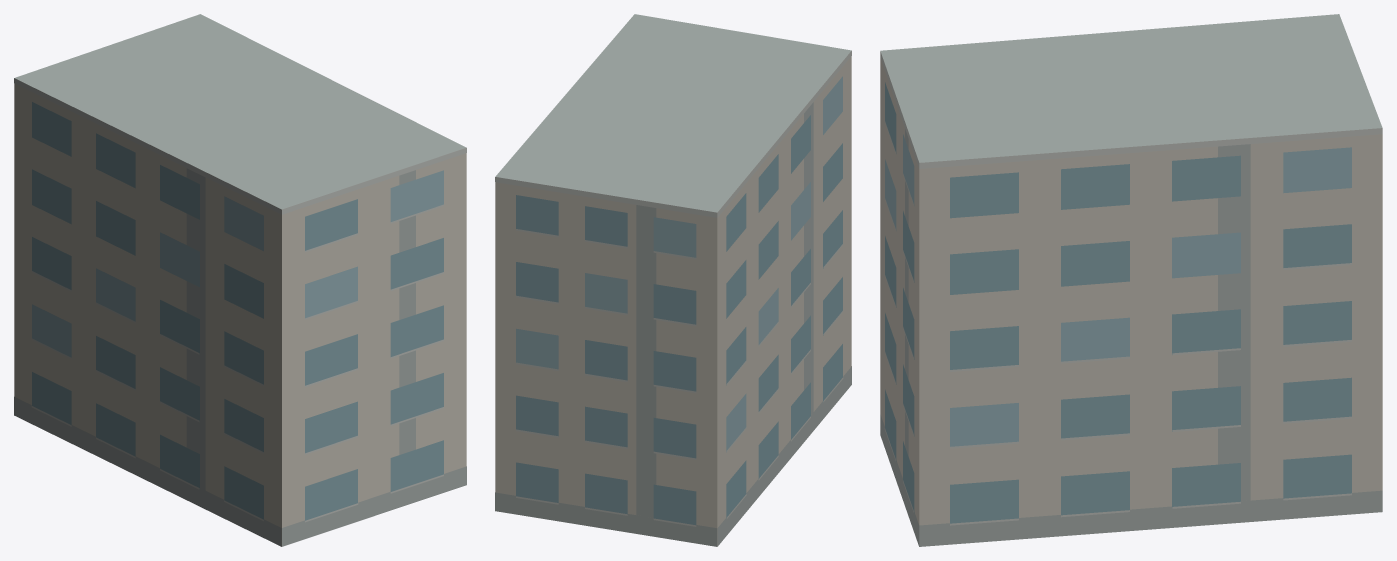
File: survey-upis-32932780.glb
3 views of the same model, side by side, from view 1: azimuth 30°, elevation 25°; view 2: azimuth 150°, elevation 25°; view 3: azimuth 270°, elevation 25° (orthographic). The views are drawn at different scales.
Parts seen in each view (by area): view 1: survey-upis-32932780.tmp; view 2: survey-upis-32932780.tmp; view 3: survey-upis-32932780.tmp.
Boxes of the visible parts, x1,y1,x2,y2 form: survey-upis-32932780.tmp: (14, 14, 466, 546); survey-upis-32932780.tmp: (495, 14, 851, 546); survey-upis-32932780.tmp: (880, 14, 1382, 546).
Bounding box in the file's own units: 12.69 × 15.25 × 18.09.
